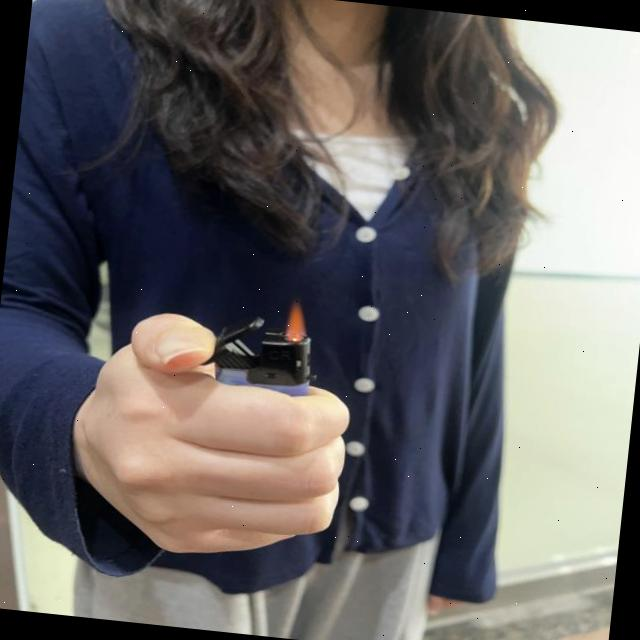fire: (283, 298, 309, 342)
